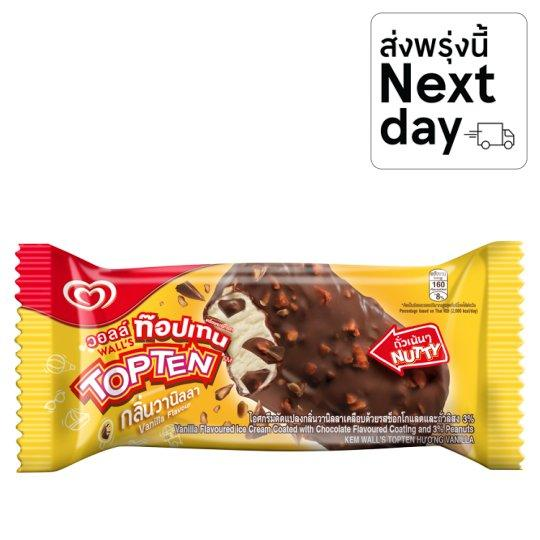plastic: (9, 232, 534, 501)
